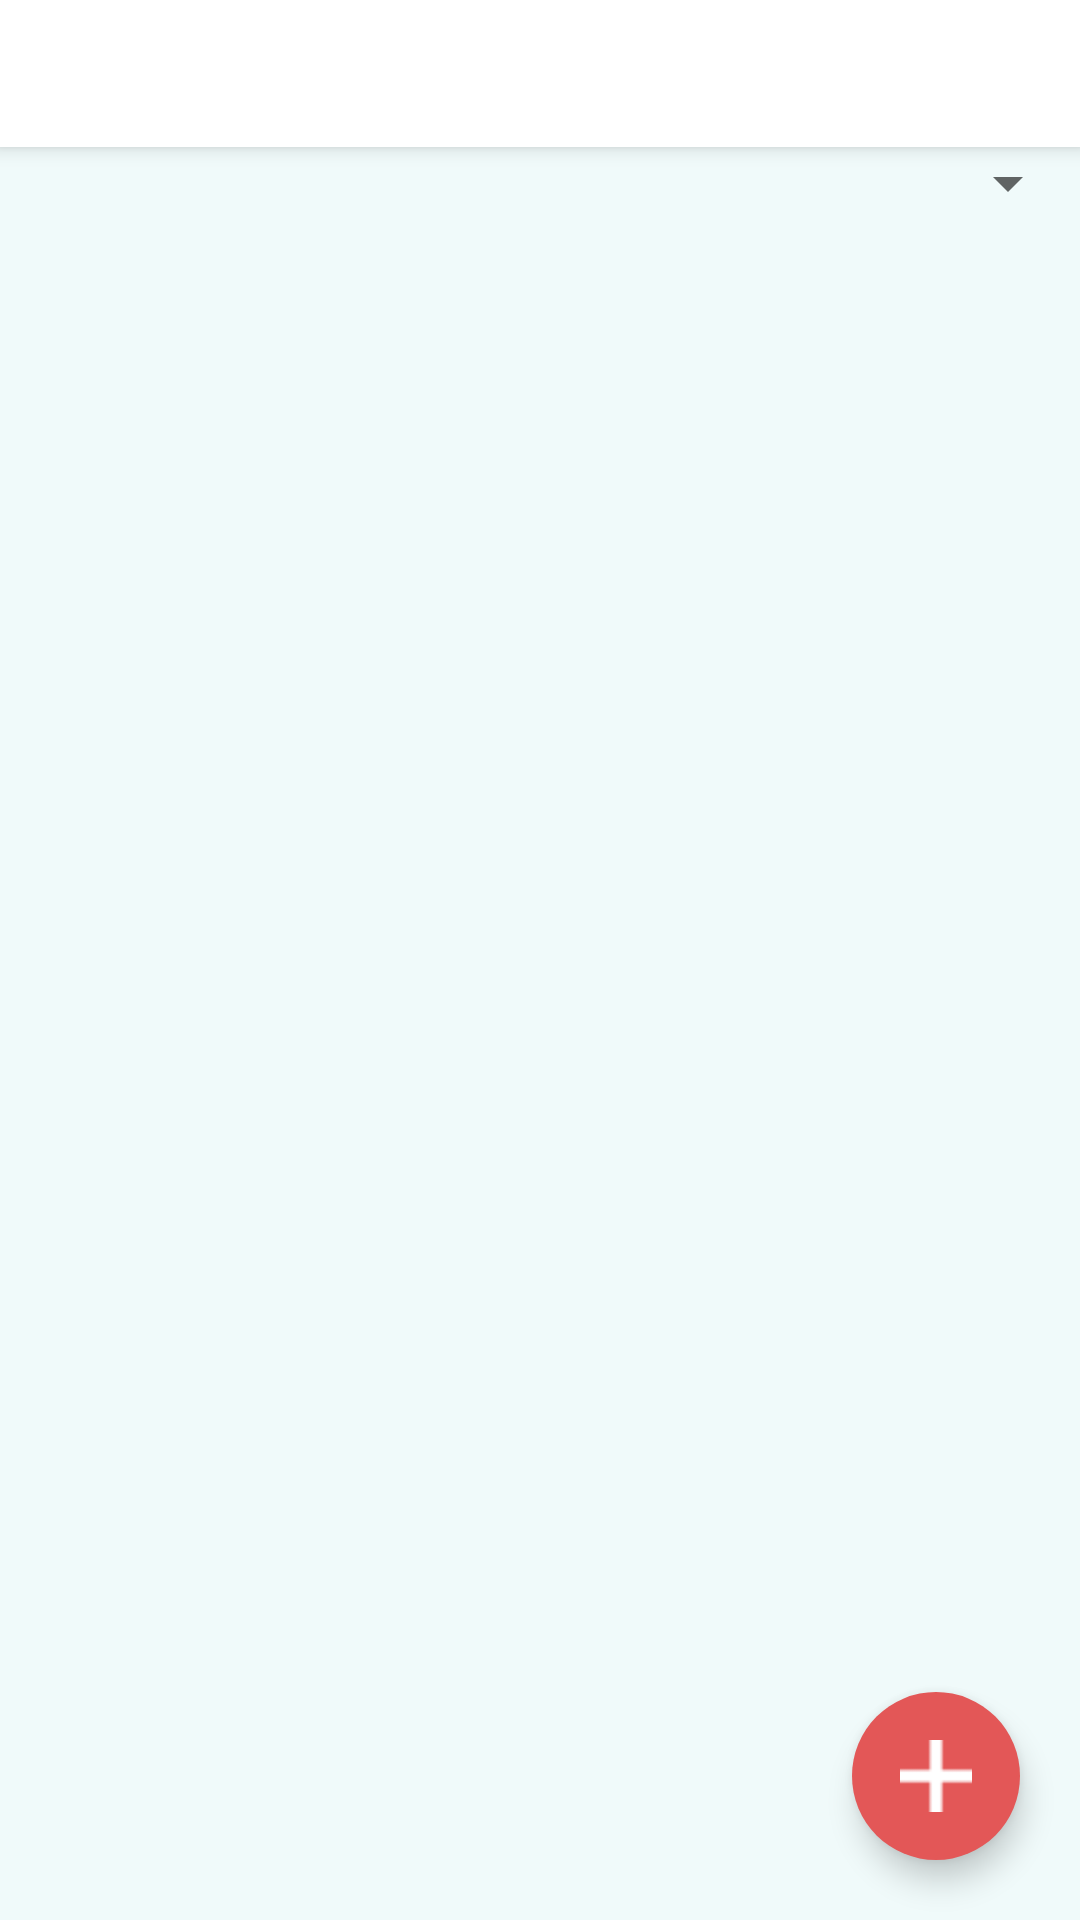

Icons on this 1080x1920 Android screen, each with the point to tap as [x,y]:
plus: [936,1776]
